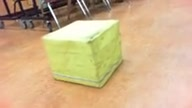cube: (41, 19, 123, 87)
